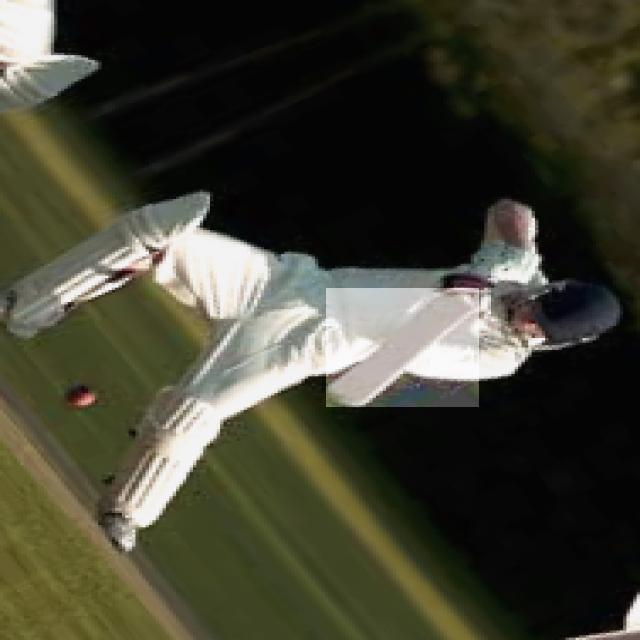bat: (323, 286, 480, 409)
toe: (324, 390, 360, 410)
